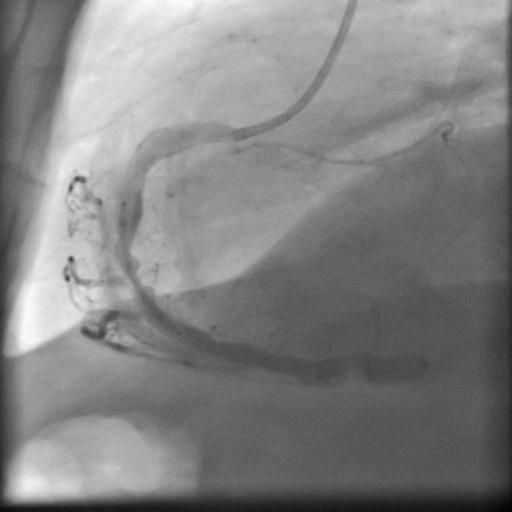Stenosis: (113, 235, 152, 298)
